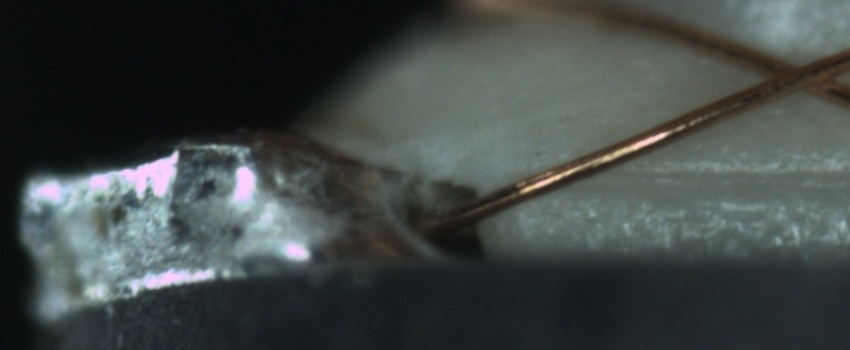CL: (747, 45, 843, 102)
DL: (554, 145, 846, 208)
